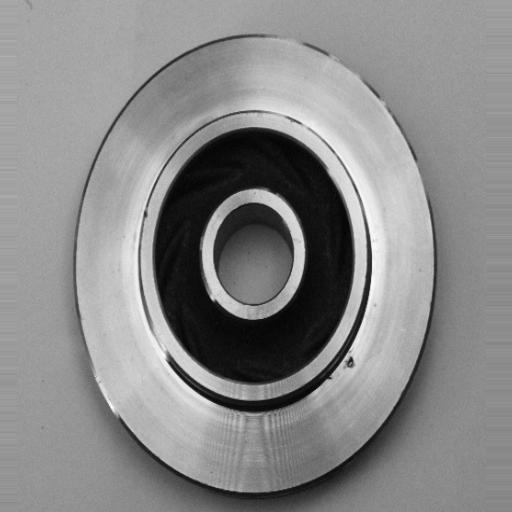crack: (337, 345, 363, 379)
scratch: (139, 288, 176, 371)
unpolished_casting: (70, 30, 438, 498)
